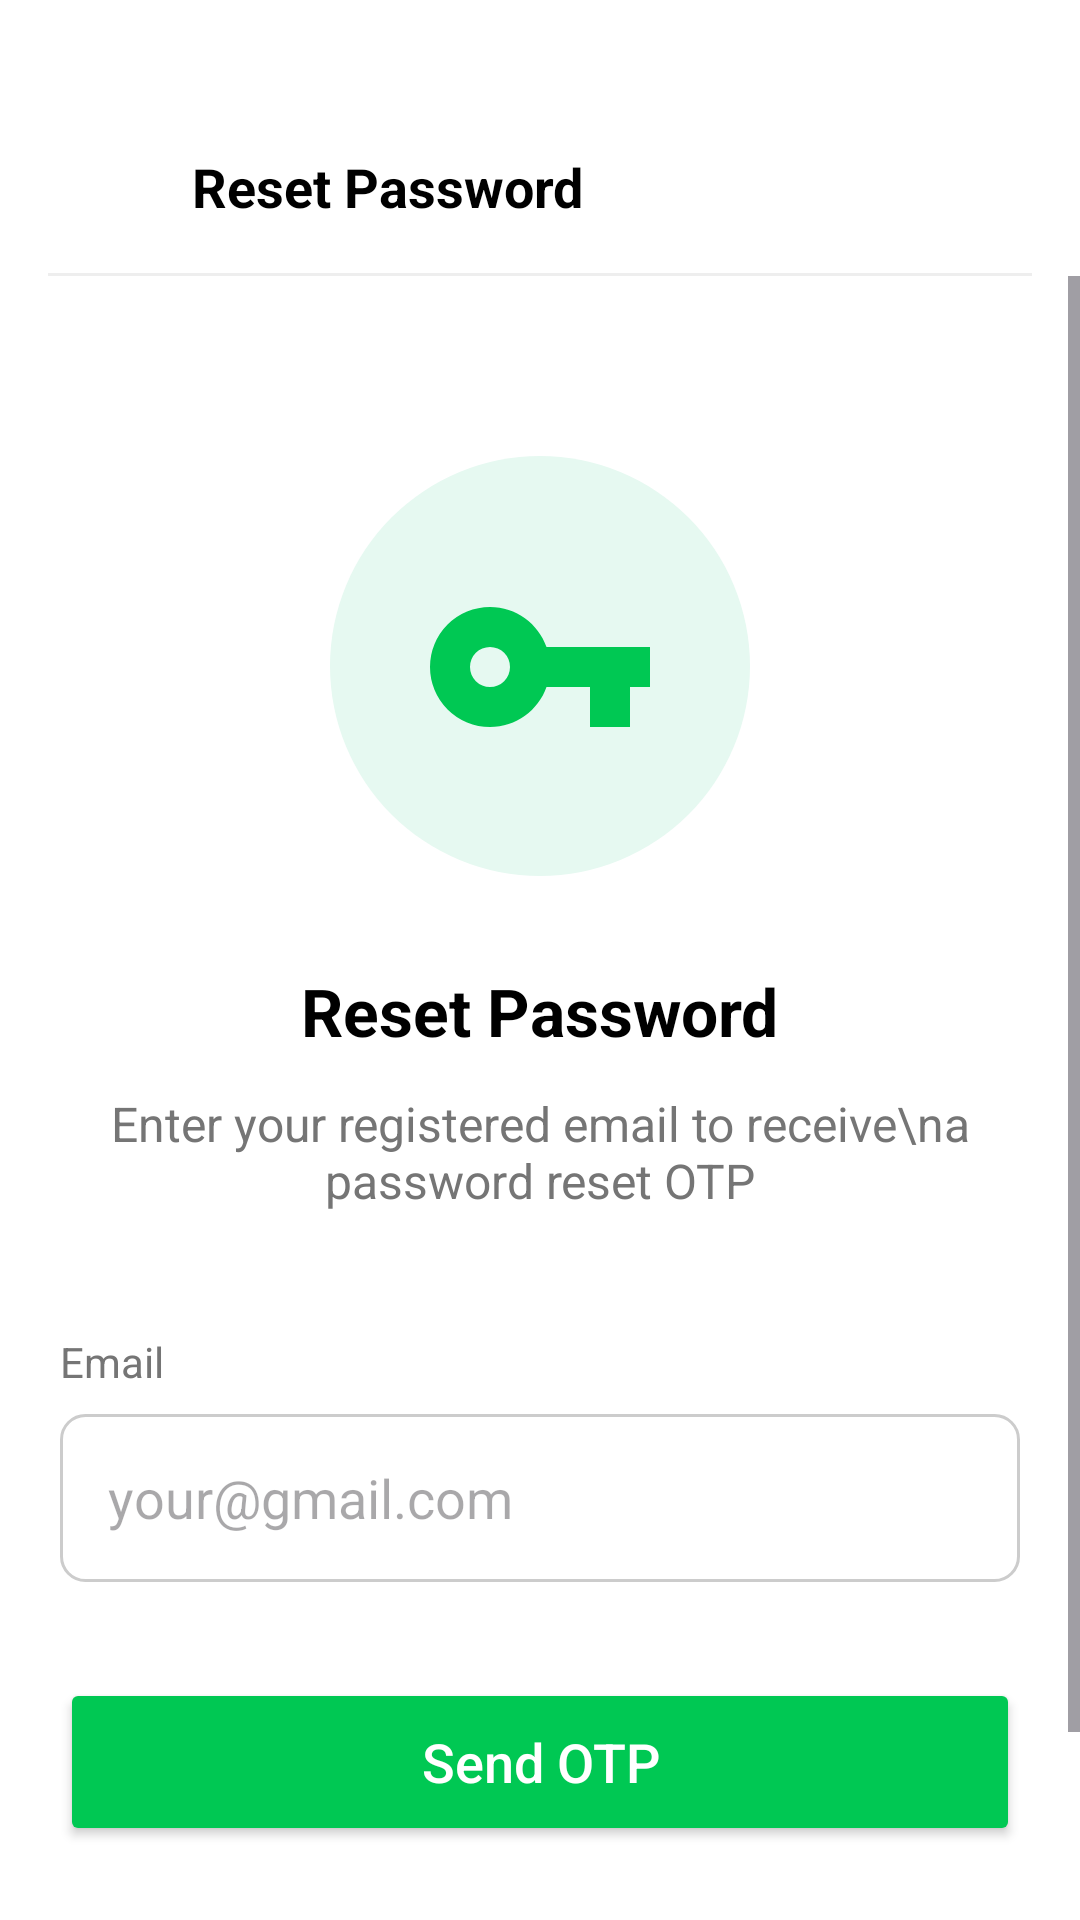

Where to tap for icons on this 1080*1920 app screen, as point (x, y):
key: point (540, 667)
